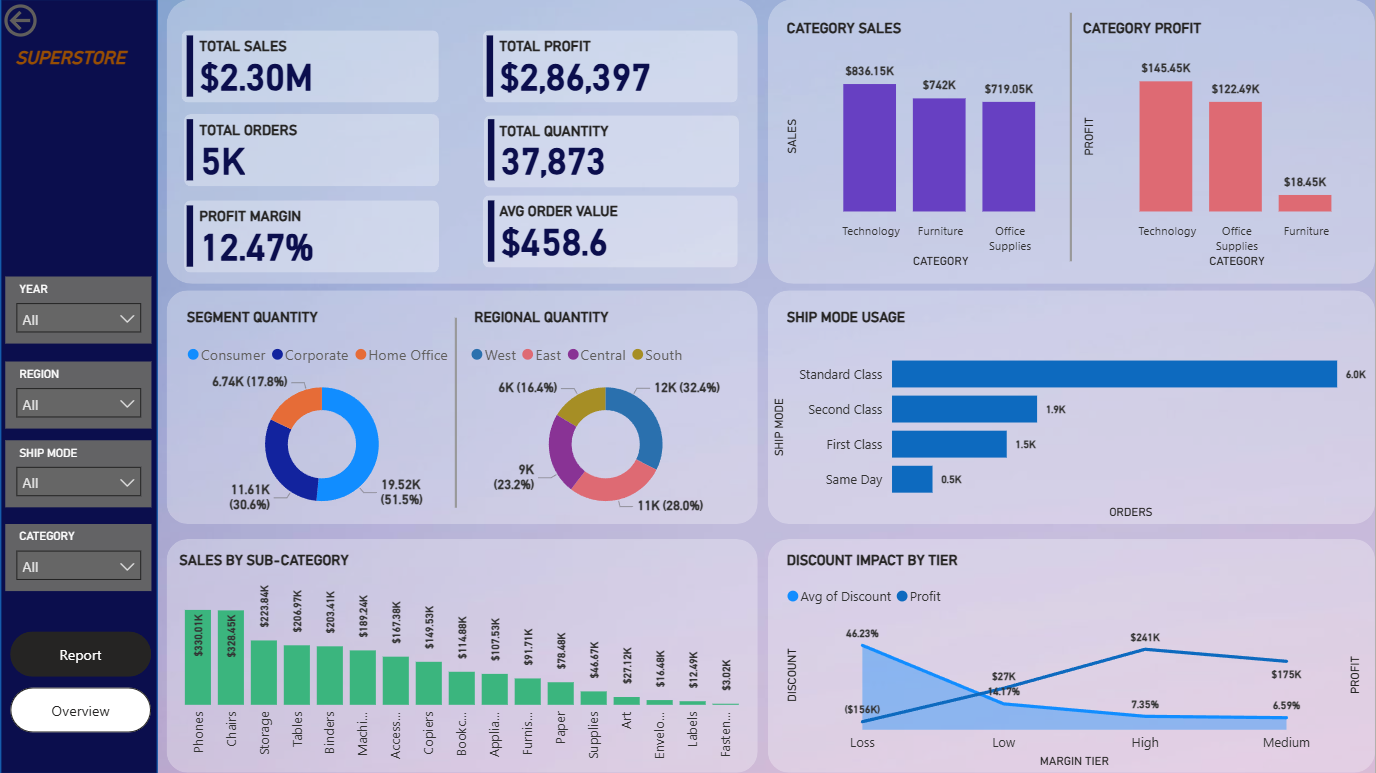

What the dashboard file says about the page in this screenshot:
{"tool":"powerbi","page":{"name":"Report","canvas":[1280,720],"ordinal":0},"visuals":[{"type":"shape","box":[10.5,233.7,118.6,47.7],"z":0},{"type":"shape","box":[715.1,502.3,565.1,217.4],"z":1000},{"type":"shape","box":[715.1,270.9,565.1,217.4],"z":2000},{"type":"shape","box":[155.8,270.9,550,217.4],"z":3000},{"type":"shape","box":[451.2,108.1,237.2,67.4],"z":4000},{"type":"shape","box":[169.8,29.1,239.5,67.4],"z":5000},{"type":"shape","box":[1.2,0,146.5,720.9],"z":6000},{"type":"shape","box":[155.8,0,550,265.1],"z":7000},{"type":"shape","box":[155.8,502.3,550,217.4],"z":8000},{"type":"shape","box":[715.1,0,565.1,265.1],"z":9000},{"type":"cardVisual","fields":{"Data":["SUPERSTORE_TRANSFORMED_DATA.Total_Quantity"]},"box":[450,107,227.9,67.4],"z":10000},{"type":"textbox","box":[460.5,108.1,146.5,29.1],"z":11000},{"type":"shape","box":[172.1,107,237.2,67.4],"z":12000},{"type":"cardVisual","fields":{"Data":["SUPERSTORE_TRANSFORMED_DATA.Total_Orders"]},"box":[169.8,107,239.5,67.4],"z":13000},{"type":"shape","box":[450,182.6,237.2,67.4],"z":14000},{"type":"shape","box":[172.1,187.2,237.2,67.4],"z":15000},{"type":"shape","box":[450,29.1,237.2,67.4],"z":16000},{"type":"textbox","box":[181.4,107,146.5,29.1],"z":17000},{"type":"cardVisual","fields":{"Data":["SUPERSTORE_TRANSFORMED_DATA.Total_Profit"]},"box":[448.8,29.1,239.5,67.4],"z":18000},{"type":"cardVisual","fields":{"Data":["SUPERSTORE_TRANSFORMED_DATA.Total_Sales"]},"box":[169.8,29.1,227.9,67.4],"z":19000},{"type":"textbox","box":[460.5,29.1,146.5,29.1],"z":20000},{"type":"textbox","box":[181.4,29.1,146.5,29.1],"z":21000},{"type":"cardVisual","fields":{"Data":["SUPERSTORE_TRANSFORMED_DATA.Profit_Margin%"]},"box":[169.8,187.2,227.9,67.4],"z":22000},{"type":"textbox","box":[181.4,187.2,146.5,29.1],"z":23000},{"type":"textbox","box":[460.5,182.6,146.5,29.1],"z":24000},{"type":"cardVisual","fields":{"Data":["SUPERSTORE_TRANSFORMED_DATA.Average_Order_Value"]},"box":[450,182.6,227.9,67.4],"z":25000},{"type":"columnChart","fields":{"Category":["SUPERSTORE_TRANSFORMED_DATA.CATEGORY"],"Y":["Sum(SUPERSTORE_TRANSFORMED_DATA.SALES)"]},"box":[727.9,44.2,269.8,210.5],"z":26000},{"type":"textbox","box":[727.9,12.8,241.9,29.1],"z":27000},{"type":"textbox","box":[162.8,507,184.9,29.1],"z":29000},{"type":"textbox","box":[169.8,281.4,187.2,29.1],"z":30000},{"type":"textbox","box":[1003.5,12.8,176.7,29.1],"z":31000},{"type":"shape","box":[990.7,12.8,12.8,231.4],"z":32000},{"type":"columnChart","fields":{"Category":["SUPERSTORE_TRANSFORMED_DATA.CATEGORY"],"Y":["Sum(SUPERSTORE_TRANSFORMED_DATA.PROFIT)"]},"box":[1003.5,44.2,269.8,210.5],"z":33000},{"type":"columnChart","fields":{"Category":["SUPERSTORE_TRANSFORMED_DATA.SUB_CATEGORY"],"Y":["Sum(SUPERSTORE_TRANSFORMED_DATA.SALES)"]},"box":[155.8,536,550,183.7],"z":34000},{"type":"donutChart","fields":{"Category":["SUPERSTORE_TRANSFORMED_DATA.SEGMENT"],"Y":["Sum(SUPERSTORE_TRANSFORMED_DATA.QUANTITY)"]},"box":[169.8,310.5,261.6,177.9],"z":35000},{"type":"shape","box":[418.6,296.5,12.8,176.7],"z":36000},{"type":"donutChart","fields":{"Y":["Sum(SUPERSTORE_TRANSFORMED_DATA.QUANTITY)"],"Category":["SUPERSTORE_TRANSFORMED_DATA.REGION"]},"box":[433.7,310.5,261.6,177.9],"z":37000},{"type":"textbox","box":[433.7,281.4,146.5,29.1],"z":38000},{"type":"textbox","box":[727.9,507,223.3,29.1],"z":39000},{"type":"clusteredBarChart","fields":{"Category":["SUPERSTORE_TRANSFORMED_DATA.SHIP_MODE"],"Y":["CountNonNull(SUPERSTORE_TRANSFORMED_DATA.ORDER_ID)"]},"box":[715.1,310.5,565.1,177.9],"z":40000},{"type":"lineChart","fields":{"Category":["SUPERSTORE_TRANSFORMED_DATA.MARGIN_TIER"],"Y":["Avg(SUPERSTORE_TRANSFORMED_DATA.DISCOUNT)"],"Y2":["Sum(SUPERSTORE_TRANSFORMED_DATA.PROFIT)"]},"box":[727.9,536,545.4,183.7],"z":41000},{"type":"slicer","fields":{"Values":["SUPERSTORE_TRANSFORMED_DATA.ORDER_YEAR"]},"box":[5.8,258.1,136,62.8],"z":41001},{"type":"slicer","fields":{"Values":["SUPERSTORE_TRANSFORMED_DATA.SHIP_MODE"]},"box":[5.8,410.5,136,62.8],"z":41002},{"type":"slicer","fields":{"Values":["SUPERSTORE_TRANSFORMED_DATA.REGION"]},"box":[5.8,337.2,136,62.8],"z":41003},{"type":"actionButton","box":[0,0,100,40],"z":41004},{"type":"slicer","fields":{"Values":["SUPERSTORE_TRANSFORMED_DATA.CATEGORY"]},"box":[5.8,488.4,136,62.8],"z":41005},{"type":"textbox","box":[10.5,39.5,131.4,39.5],"z":41006},{"type":"textbox","box":[727.9,281.4,146.5,29.1],"z":41007},{"type":"pageNavigator","box":[10.5,588.4,131.4,94.2],"z":41008}]}

Visuals, with their boxes on the page's 1280x720 design canvas (x1, y1, x2, y2). These are canvas units, not pixel positions in the 1376x773 screenshot, which may show the page scaled, cropped or inside an application window:
shape: (x1=10, y1=234, x2=129, y2=281)
shape: (x1=715, y1=502, x2=1280, y2=720)
shape: (x1=715, y1=271, x2=1280, y2=488)
shape: (x1=156, y1=271, x2=706, y2=488)
shape: (x1=451, y1=108, x2=688, y2=176)
shape: (x1=170, y1=29, x2=409, y2=96)
shape: (x1=1, y1=0, x2=148, y2=721)
shape: (x1=156, y1=0, x2=706, y2=265)
shape: (x1=156, y1=502, x2=706, y2=720)
shape: (x1=715, y1=0, x2=1280, y2=265)
cardVisual - SUPERSTORE_TRANSFORMED_DATA.Total_Quantity: (x1=450, y1=107, x2=678, y2=174)
textbox: (x1=460, y1=108, x2=607, y2=137)
shape: (x1=172, y1=107, x2=409, y2=174)
cardVisual - SUPERSTORE_TRANSFORMED_DATA.Total_Orders: (x1=170, y1=107, x2=409, y2=174)
shape: (x1=450, y1=183, x2=687, y2=250)
shape: (x1=172, y1=187, x2=409, y2=255)
shape: (x1=450, y1=29, x2=687, y2=96)
textbox: (x1=181, y1=107, x2=328, y2=136)
cardVisual - SUPERSTORE_TRANSFORMED_DATA.Total_Profit: (x1=449, y1=29, x2=688, y2=96)
cardVisual - SUPERSTORE_TRANSFORMED_DATA.Total_Sales: (x1=170, y1=29, x2=398, y2=96)
textbox: (x1=460, y1=29, x2=607, y2=58)
textbox: (x1=181, y1=29, x2=328, y2=58)
cardVisual - SUPERSTORE_TRANSFORMED_DATA.Profit_Margin%: (x1=170, y1=187, x2=398, y2=255)
textbox: (x1=181, y1=187, x2=328, y2=216)
textbox: (x1=460, y1=183, x2=607, y2=212)
cardVisual - SUPERSTORE_TRANSFORMED_DATA.Average_Order_Value: (x1=450, y1=183, x2=678, y2=250)
columnChart - SUPERSTORE_TRANSFORMED_DATA.CATEGORY x Sum(SUPERSTORE_TRANSFORMED_DATA.SALES): (x1=728, y1=44, x2=998, y2=255)
textbox: (x1=728, y1=13, x2=970, y2=42)
textbox: (x1=163, y1=507, x2=348, y2=536)
textbox: (x1=170, y1=281, x2=357, y2=310)
textbox: (x1=1004, y1=13, x2=1180, y2=42)
shape: (x1=991, y1=13, x2=1004, y2=244)
columnChart - SUPERSTORE_TRANSFORMED_DATA.CATEGORY x Sum(SUPERSTORE_TRANSFORMED_DATA.PROFIT): (x1=1004, y1=44, x2=1273, y2=255)
columnChart - SUPERSTORE_TRANSFORMED_DATA.SUB_CATEGORY x Sum(SUPERSTORE_TRANSFORMED_DATA.SALES): (x1=156, y1=536, x2=706, y2=720)
donutChart - SUPERSTORE_TRANSFORMED_DATA.SEGMENT x Sum(SUPERSTORE_TRANSFORMED_DATA.QUANTITY): (x1=170, y1=310, x2=431, y2=488)
shape: (x1=419, y1=296, x2=431, y2=473)
donutChart - Sum(SUPERSTORE_TRANSFORMED_DATA.QUANTITY) x SUPERSTORE_TRANSFORMED_DATA.REGION: (x1=434, y1=310, x2=695, y2=488)
textbox: (x1=434, y1=281, x2=580, y2=310)
textbox: (x1=728, y1=507, x2=951, y2=536)
clusteredBarChart - SUPERSTORE_TRANSFORMED_DATA.SHIP_MODE x CountNonNull(SUPERSTORE_TRANSFORMED_DATA.ORDER_ID): (x1=715, y1=310, x2=1280, y2=488)
lineChart - SUPERSTORE_TRANSFORMED_DATA.MARGIN_TIER x Avg(SUPERSTORE_TRANSFORMED_DATA.DISCOUNT): (x1=728, y1=536, x2=1273, y2=720)
slicer - SUPERSTORE_TRANSFORMED_DATA.ORDER_YEAR: (x1=6, y1=258, x2=142, y2=321)
slicer - SUPERSTORE_TRANSFORMED_DATA.SHIP_MODE: (x1=6, y1=410, x2=142, y2=473)
slicer - SUPERSTORE_TRANSFORMED_DATA.REGION: (x1=6, y1=337, x2=142, y2=400)
actionButton: (x1=0, y1=0, x2=100, y2=40)
slicer - SUPERSTORE_TRANSFORMED_DATA.CATEGORY: (x1=6, y1=488, x2=142, y2=551)
textbox: (x1=10, y1=40, x2=142, y2=79)
textbox: (x1=728, y1=281, x2=874, y2=310)
pageNavigator: (x1=10, y1=588, x2=142, y2=683)
